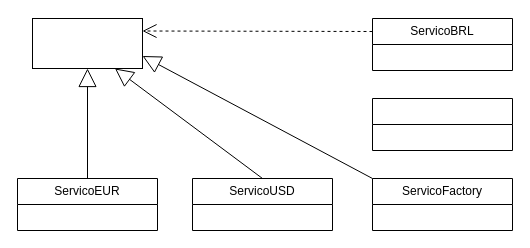
This 530x248 diagram has some shape labels left out. The shapes that lost their labels are listed below. From the top down, each one's box as (x1, y1, x2, y2) in pixels, then its label:
(32, 18, 142, 68): «interface» IServico
(372, 98, 512, 150): ServicoJPY
